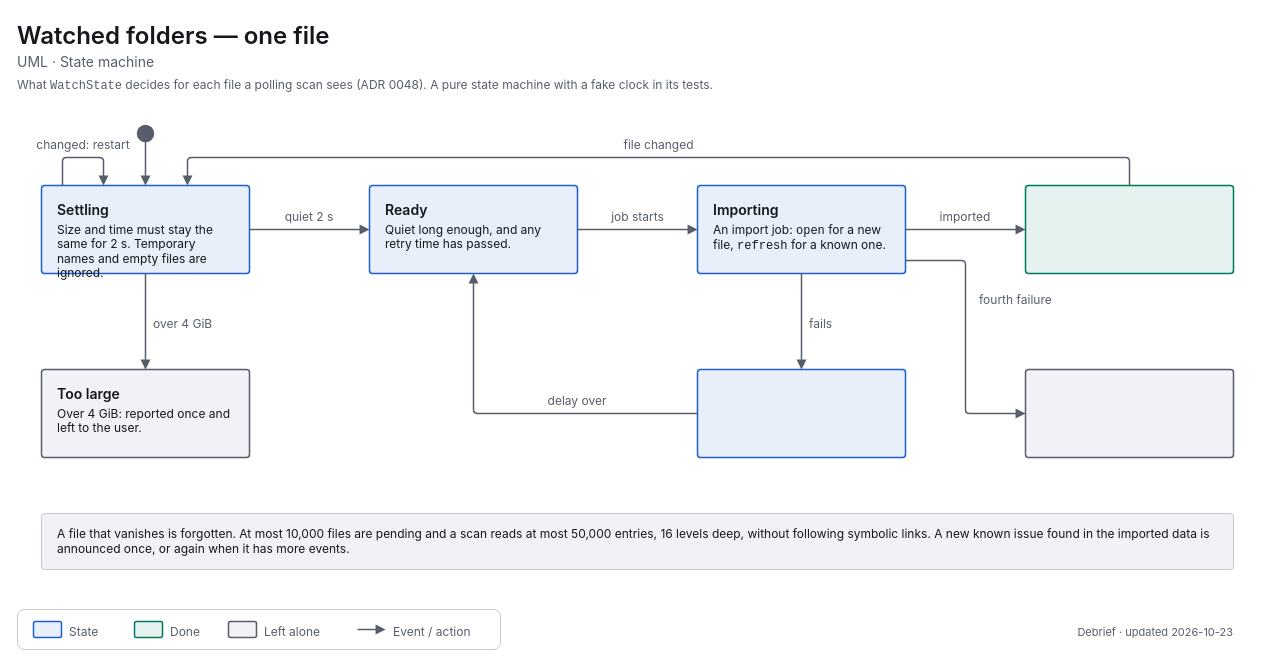
Image size: 1283x667. Some labels were removed from this diagram. Here are the shapes that lost their labels. From the top down, the centre of each, then its label:
At pixel 1129 229: "Imported Remembered with its size and time.".
At pixel 801 413: "Backing off Locked or unreadable: tried again after 2 s, 4 s, 8 s.".
At pixel 1129 413: "Given up Reported once. A file that changes is tried again.".
